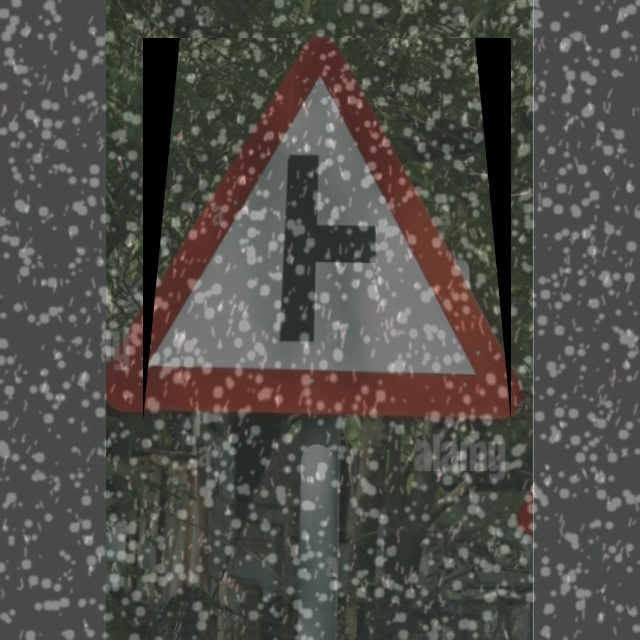Side_Road_Right: (143, 38, 511, 421)
